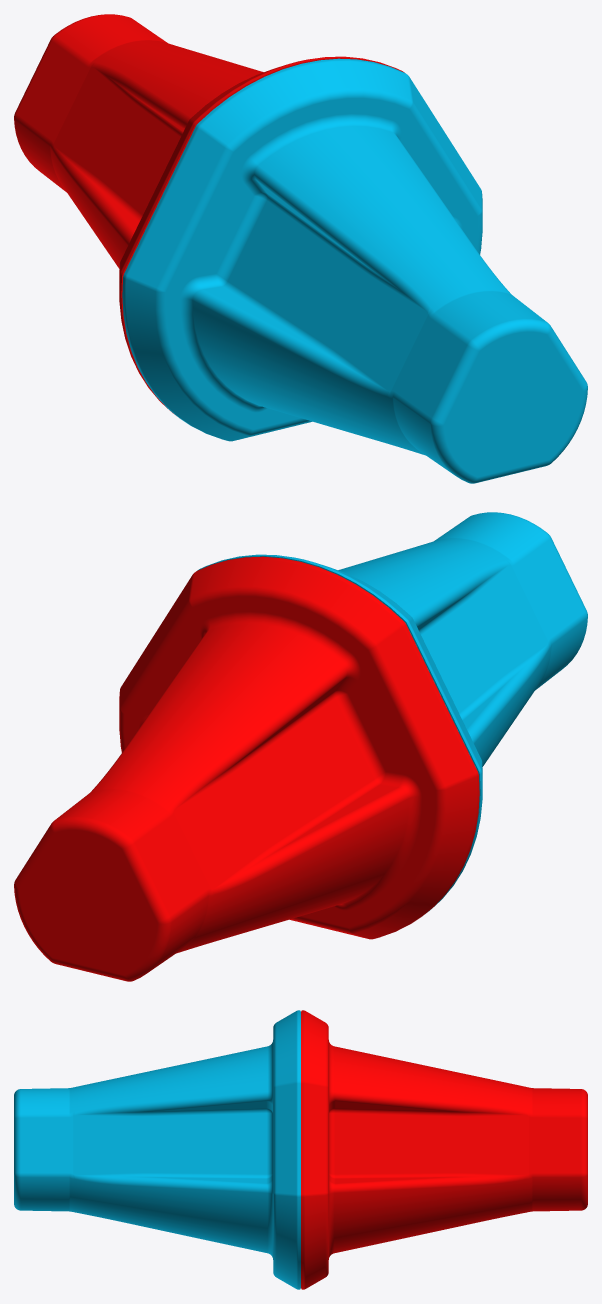
File: pin-red-blue.glb
3 renders of one model, top to bottom at view 1: azimuth 30°, elevation 25°; view 2: azimuth 150°, elevation 25°; view 3: azimuth 270°, elevation 25°, orthographic. The views are drawn at different scales.
Parts seen in each view (by area): view 1: Pin Half (×2); view 2: Pin Half (×2); view 3: Pin Half (×2).
Boxes of the visible parts, box(x1,y1,x2,y2) form: Pin Half (×2): box(14, 14, 587, 483); Pin Half (×2): box(14, 512, 587, 981); Pin Half (×2): box(14, 1010, 587, 1289).
Size of the model in its own units: 0.0803 by 0.0768 by 0.165.
